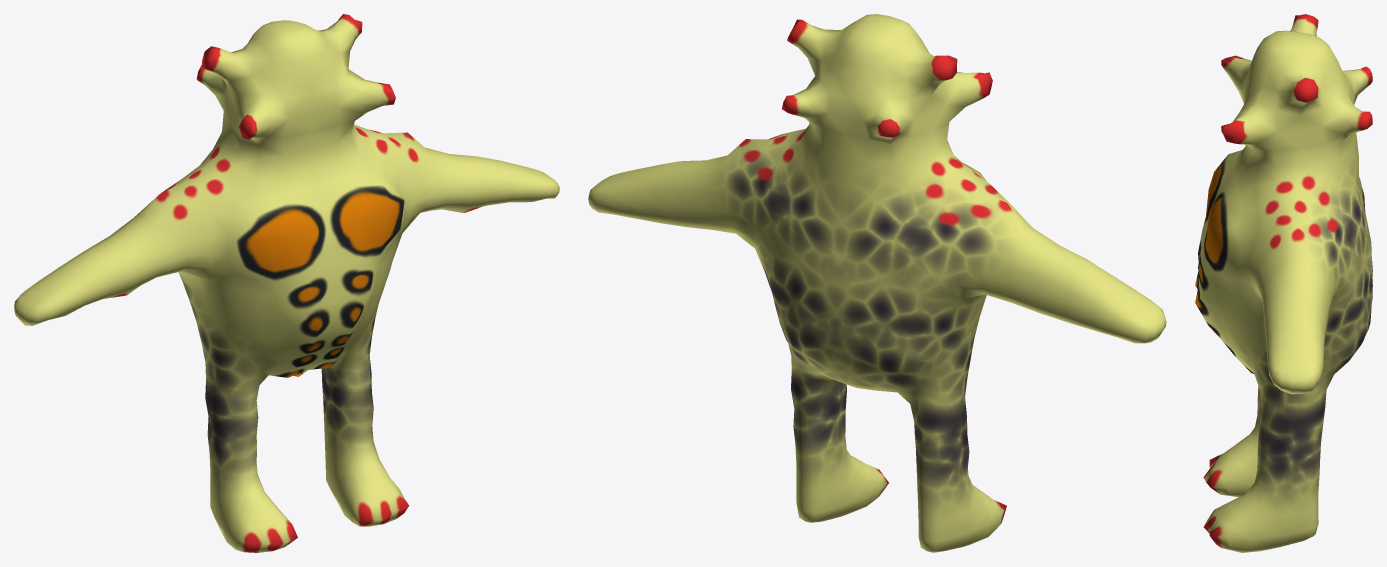
Rendered from Kaiju01.fbx.
3 views of the same model, side by side, from view 1: azimuth 30°, elevation 25°; view 2: azimuth 150°, elevation 25°; view 3: azimuth 270°, elevation 25° (orthographic). The views are drawn at different scales.
Visible parts, largest first — view 1: Kaiju03; view 2: Kaiju03; view 3: Kaiju03.
Part boxes in pixels (bbox=[...]): Kaiju03: bbox=[14, 14, 559, 552]; Kaiju03: bbox=[588, 14, 1166, 552]; Kaiju03: bbox=[1195, 14, 1372, 552].
Bounding box in the file's own units: 15.7 × 13.66 × 4.57.
